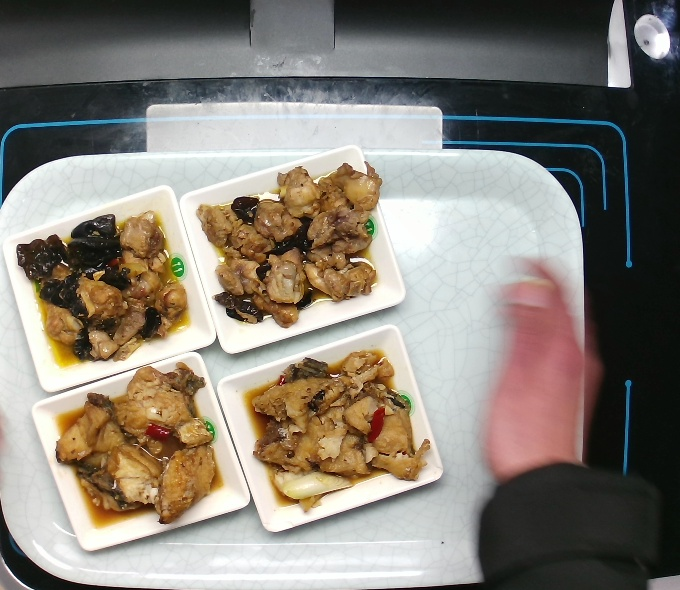wcq-MuErRouKuai: (201, 163, 382, 327), (12, 209, 197, 368)
wcq-YuKuai: (246, 341, 433, 514), (41, 360, 228, 533)
